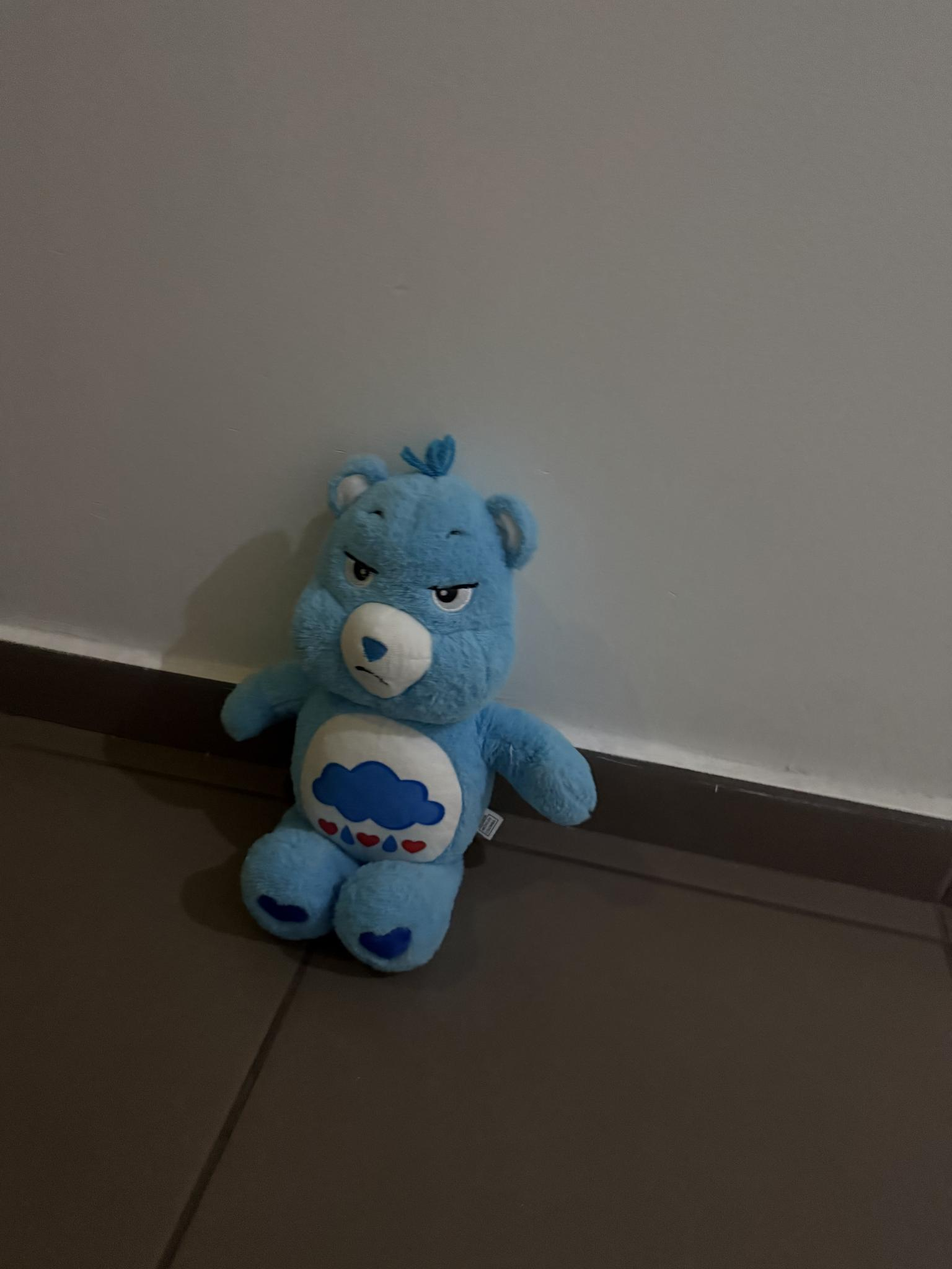peluche_Juan Jose: (198, 435, 600, 984)
